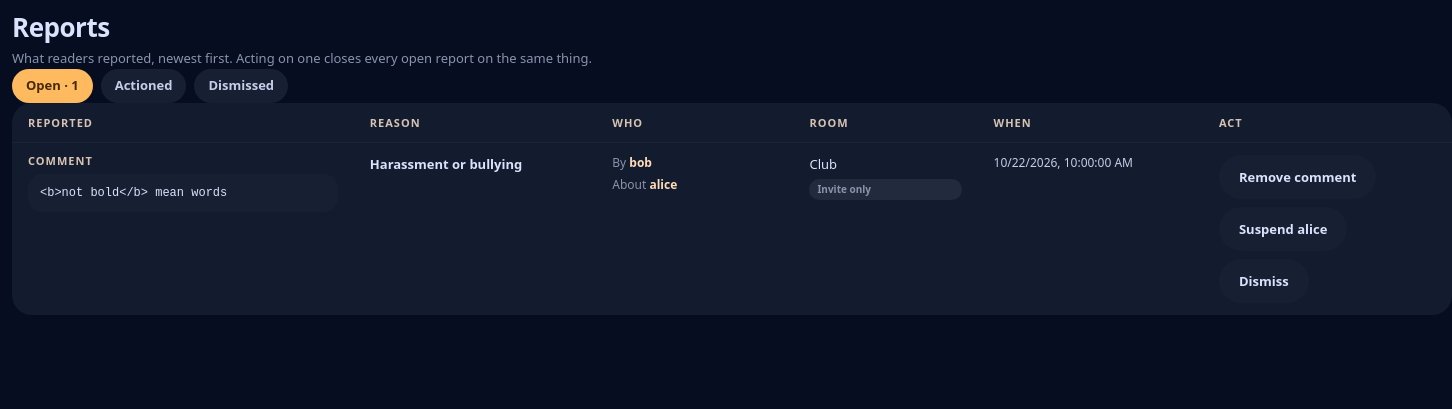
ReportsPage › says what went wrong
What coordinates should you click on to do the following:
click the button "Dismiss"
I would click on:
 (1264, 281)
Its box is [1219,259,1309,303].
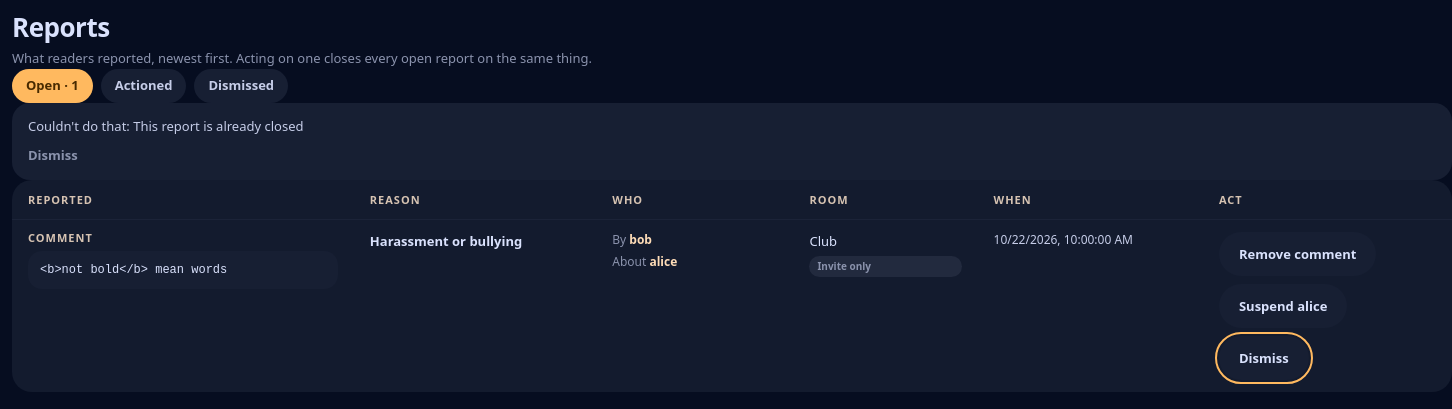
Check: the text "Couldn't do that: This report is already closed" is shown, box [28,117,304,135]
